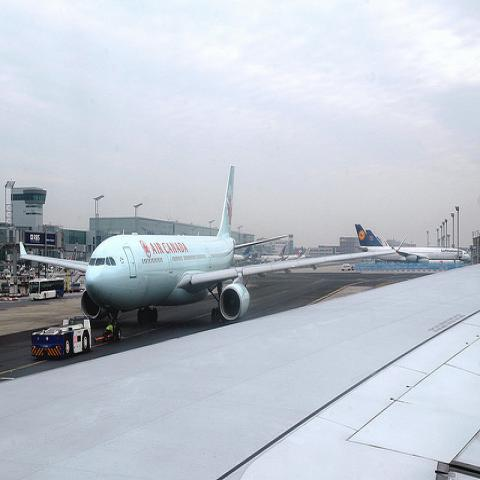bus: (29, 277, 65, 300)
car: (341, 263, 350, 272)
truck: (31, 315, 92, 360)
